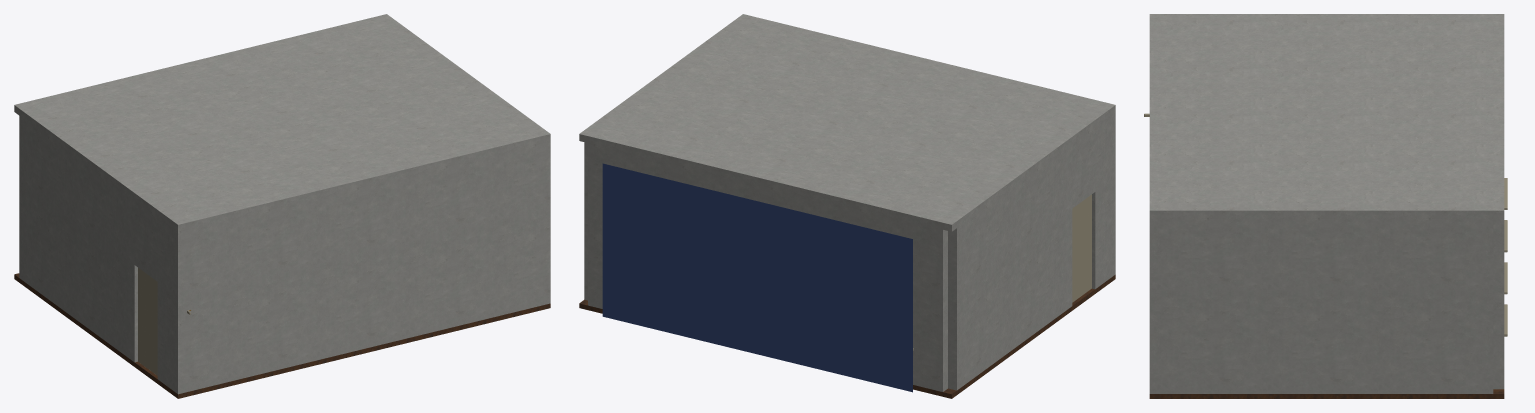
File: lab_room.glb
3 renders of one model, left to right at view 1: azimuth 30°, elevation 25°; view 2: azimuth 150°, elevation 25°; view 3: azimuth 270°, elevation 25°, orthographic. The views are drawn at different scales.
Visible parts, largest first — view 1: ceiling, wall_south, wall_west_b, floor, wall_west_a, door, wall_west_lintel; view 2: ceiling, window_night, wall_west_b, wall_north_high, wall_north_pier_0, wall_west_a, door, wall_north_low, wall_north_pier_4, wall_west_lintel, floor, wall_south (+1 smaller); view 3: ceiling, wall_east, wall_south, floor, wall_north_pier_4, wall_north_low.
Boxes of the visible parts, <box> form: ceiling: <box>14,14,550,231</box>; wall_south: <box>173,141,550,394</box>; wall_west_b: <box>19,116,137,362</box>; floor: <box>14,273,550,398</box>; wall_west_a: <box>157,217,172,390</box>; door: <box>138,268,157,375</box>; wall_west_lintel: <box>134,200,157,281</box>; ceiling: <box>579,14,1115,231</box>; window_night: <box>602,163,912,392</box>; wall_west_b: <box>948,144,1072,390</box>; wall_north_high: <box>588,143,947,247</box>; wall_north_pier_0: <box>913,241,947,354</box>; wall_west_a: <box>1092,116,1110,289</box>; door: <box>1072,194,1091,302</box>; wall_north_low: <box>588,268,947,391</box>; wall_north_pier_4: <box>588,161,602,271</box>; wall_west_lintel: <box>1072,127,1095,208</box>; floor: <box>579,274,1115,398</box>; wall_south: <box>1110,112,1115,277</box>; ceiling: <box>1149,14,1504,218</box>; wall_east: <box>1160,218,1493,393</box>; wall_south: <box>1149,218,1160,393</box>; floor: <box>1149,389,1504,398</box>; wall_north_pier_4: <box>1493,233,1504,348</box>; wall_north_low: <box>1493,349,1504,389</box>.
Bounding box in the file's own units: 8.4 × 3.75 × 6.8.
Materials: 45 (23 with a texture image).
